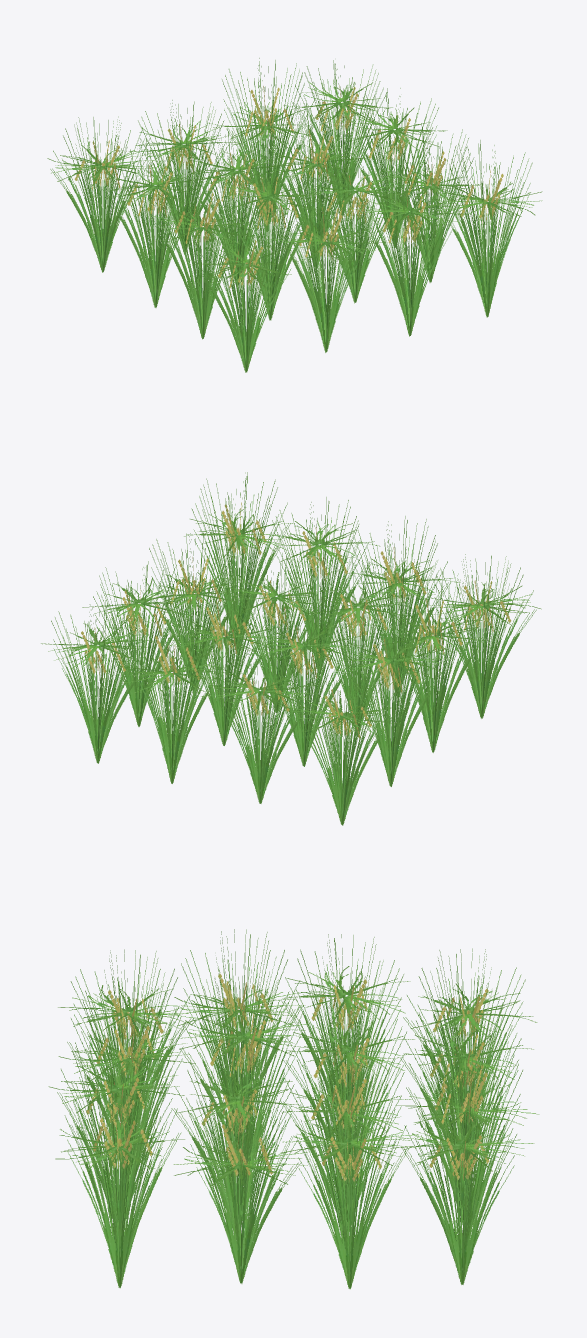
The model's file is crop_rice.glb.
The picture shows the model from 3 angles, top to bottom: view 1: azimuth 30°, elevation 25°; view 2: azimuth 150°, elevation 25°; view 3: azimuth 270°, elevation 25°; orthographic projection. The views are drawn at different scales.
Parts seen in each view (by area): view 1: prop; view 2: prop; view 3: prop.
Boxes of the visible parts, box(x1,y1,x2,y2) form: prop: box(47, 58, 542, 372); prop: box(41, 472, 541, 825); prop: box(48, 929, 539, 1289).
Size of the model in its own units: 1.2 by 0.5719 by 1.23.
Materials: 2 (2 with a texture image).
